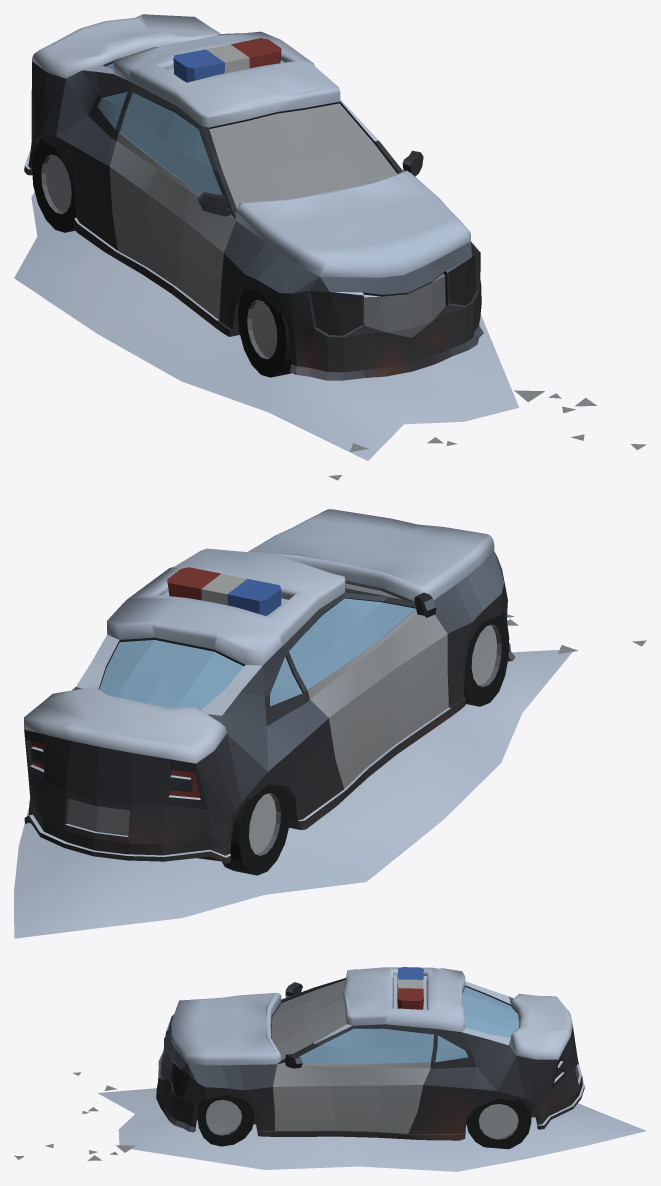
The model's file is police_crashed.glb.
3 renders of one model, top to bottom at view 1: azimuth 30°, elevation 25°; view 2: azimuth 150°, elevation 25°; view 3: azimuth 270°, elevation 25°, orthographic. The views are drawn at different scales.
Visible parts, largest first — view 1: Body, Glass; view 2: Body, Glass; view 3: Body, Glass.
Boxes of the visible parts, x1=… form: Body: x1=14, y1=14, x2=646, y2=480; Glass: x1=98, y1=63, x2=222, y2=194; Body: x1=14, y1=509, x2=646, y2=938; Glass: x1=99, y1=598, x2=415, y2=709; Body: x1=14, y1=967, x2=646, y2=1171; Glass: x1=299, y1=987, x2=519, y2=1063.
Bounding box in the file's own units: 2.69 × 1.7 × 6.9.
